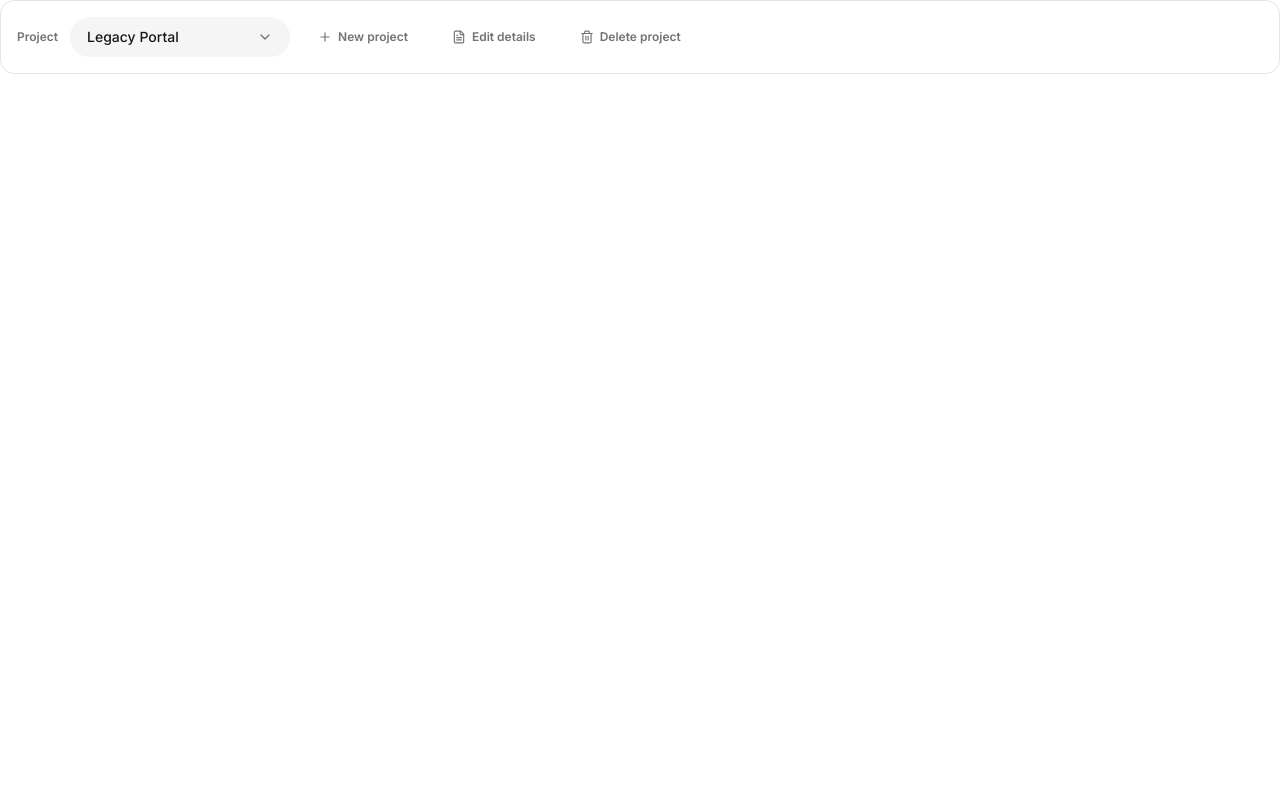
ProjectPicker › deleting the open project › keeps that saved path when the delete is refused — the project still exists
This screenshot has width=1280, height=800.
Click the button "Delete project". click: (630, 37)
box: [564,19,697,55]
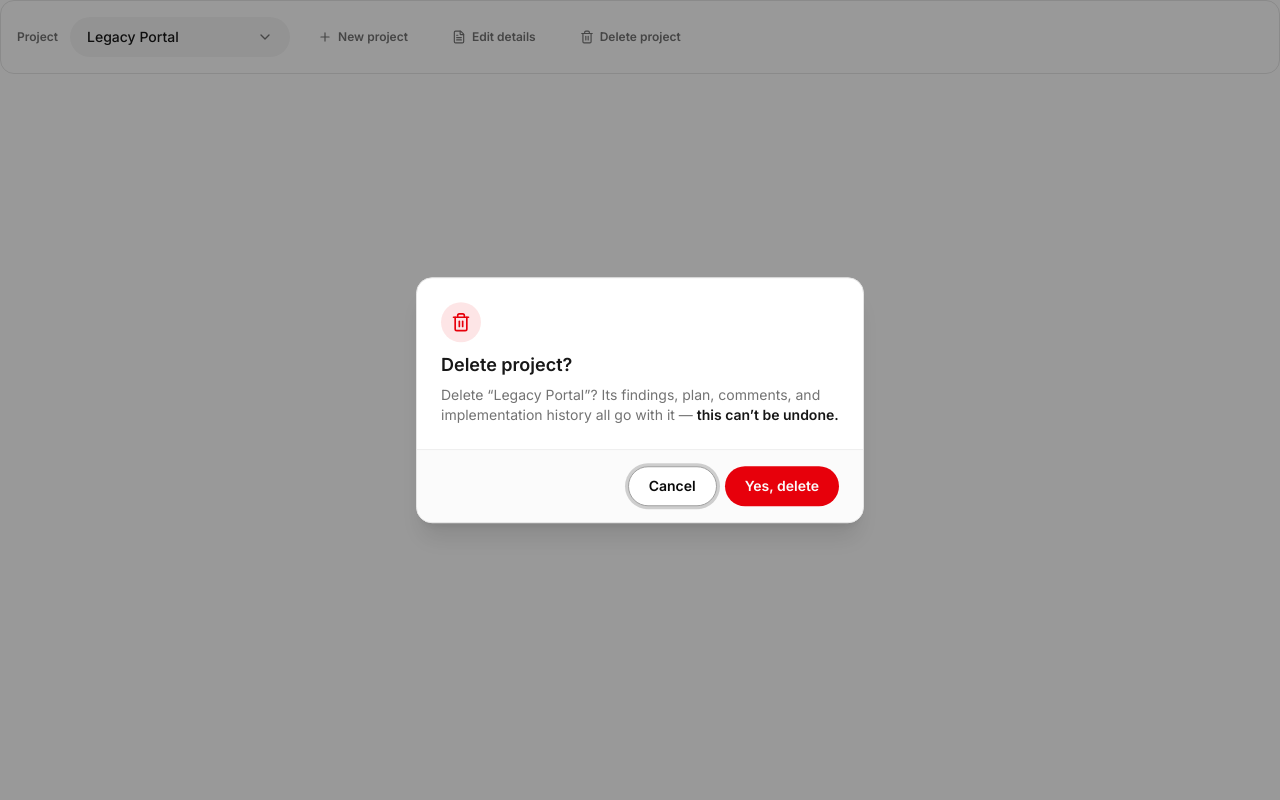
Click the button "Yes, delete". click: (782, 486)
box: [725,466,839,506]
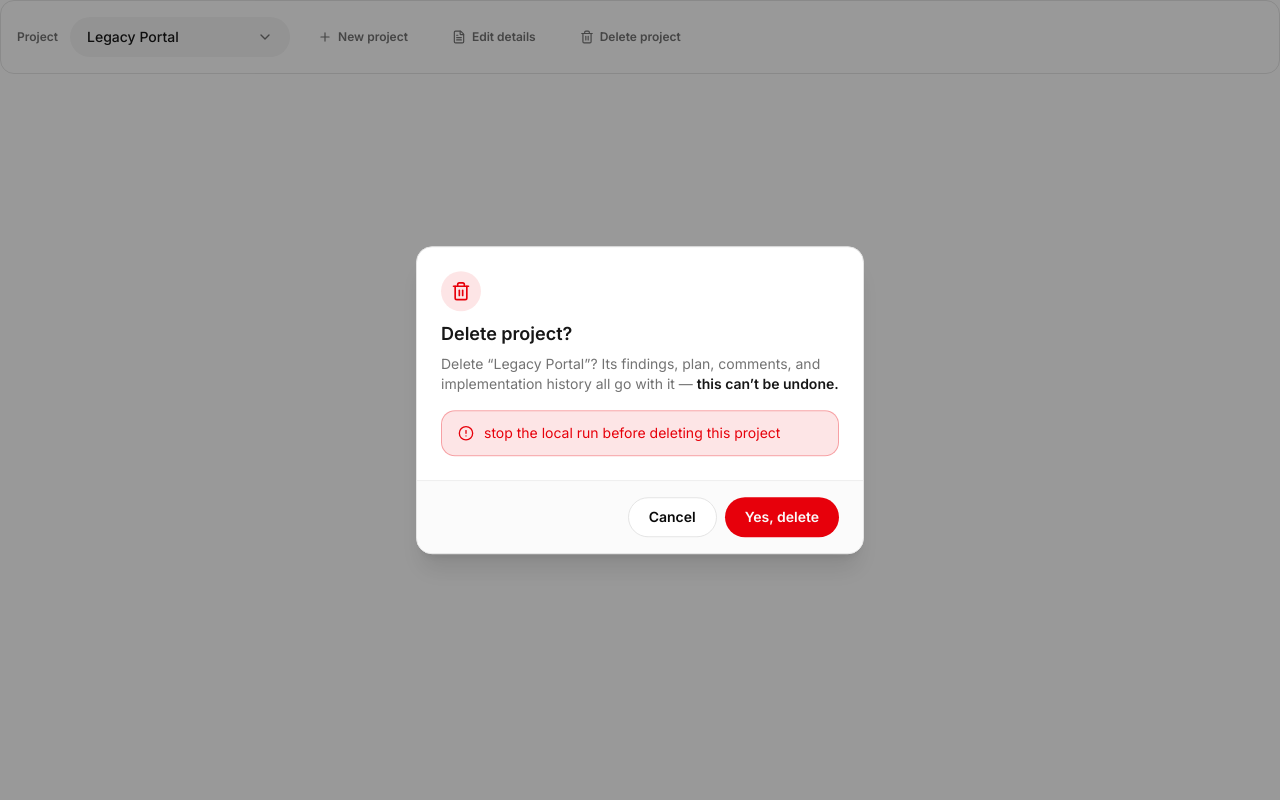
Check: the message shows "stop the local run", box [484,424,780,441]
